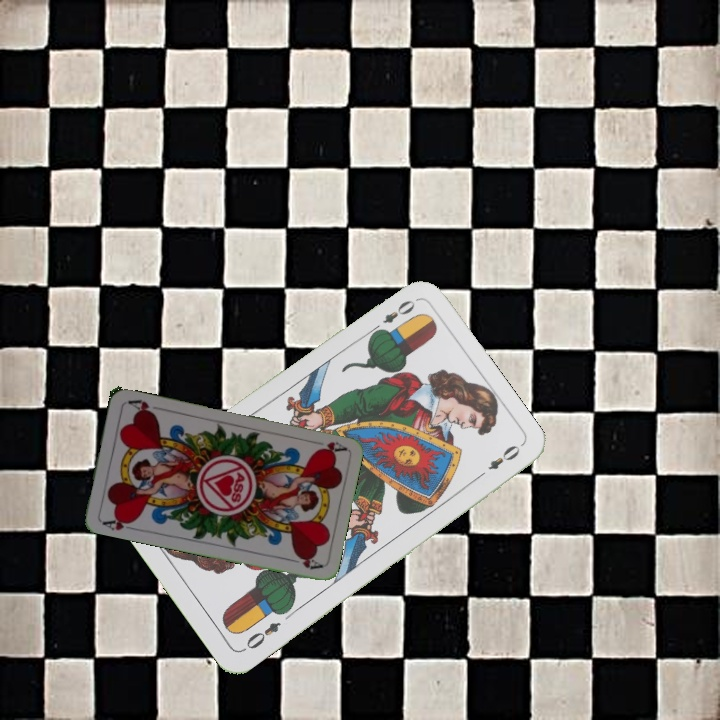EO: (366, 295, 418, 337), (238, 617, 284, 654)
HA: (98, 513, 138, 533), (308, 437, 348, 456)
